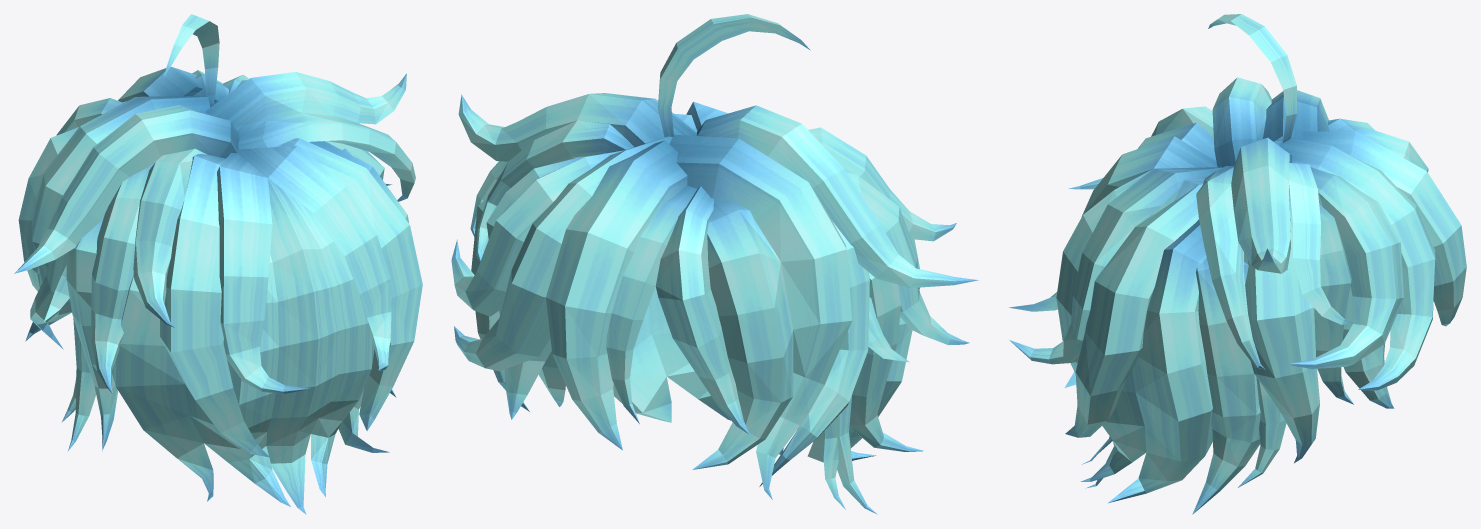
Rendered from hair_2__Object_4.glb.
The picture shows the model from 3 angles, left to right: view 1: azimuth 30°, elevation 25°; view 2: azimuth 150°, elevation 25°; view 3: azimuth 270°, elevation 25°; orthographic projection. The views are drawn at different scales.
Parts seen in each view (by area): view 1: geometry_0; view 2: geometry_0; view 3: geometry_0.
Boxes of the visible parts, x1,y1,x2,y2 form: geometry_0: [14, 14, 422, 514]; geometry_0: [451, 14, 978, 514]; geometry_0: [1009, 14, 1466, 514].
Bounding box in the file's own units: 1.7 × 1.72 × 1.59.
1 material, 1 textured.
